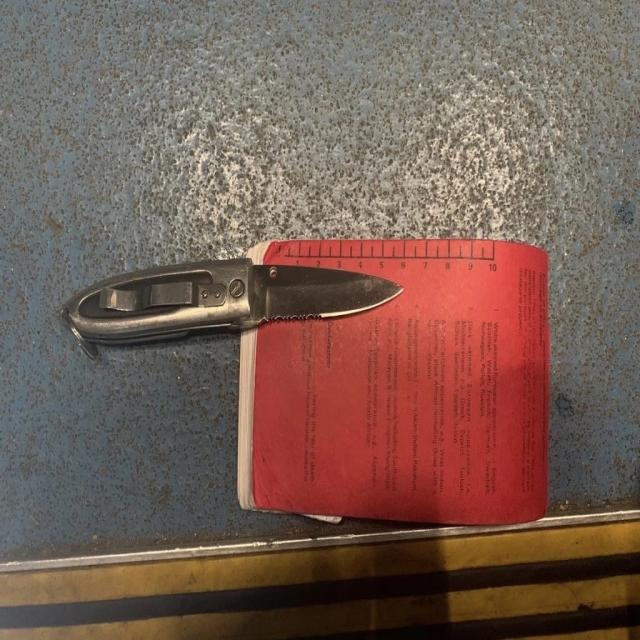Sharp-Object: (56, 258, 406, 346)
